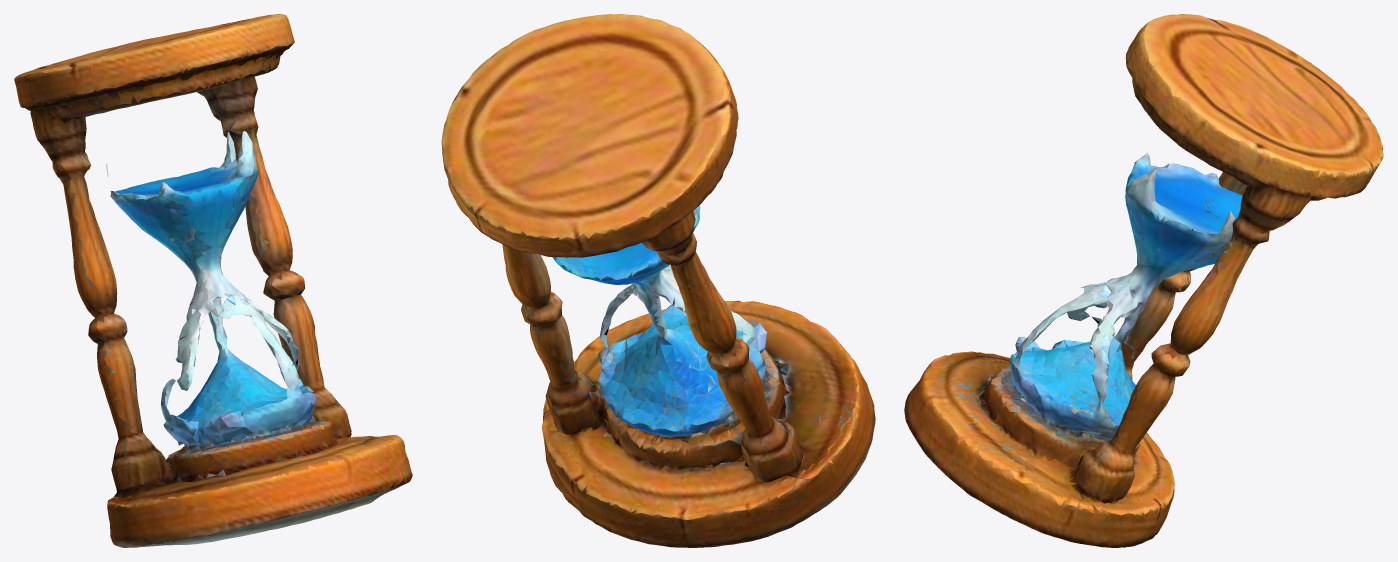
Rendered from dress-hourglass.glb.
The picture shows the model from 3 angles, left to right: view 1: azimuth 30°, elevation 25°; view 2: azimuth 150°, elevation 25°; view 3: azimuth 270°, elevation 25°; orthographic projection. The views are drawn at different scales.
Visible parts, largest first — view 1: world; view 2: world; view 3: world.
Boxes of the visible parts, <box> form: world: <box>14,14,412,547</box>; world: <box>441,14,875,547</box>; world: <box>904,14,1383,547</box>.
Bounding box in the file's own units: 0.6066 × 1.03 × 0.9297.
Materials: 1 (1 with a texture image).
